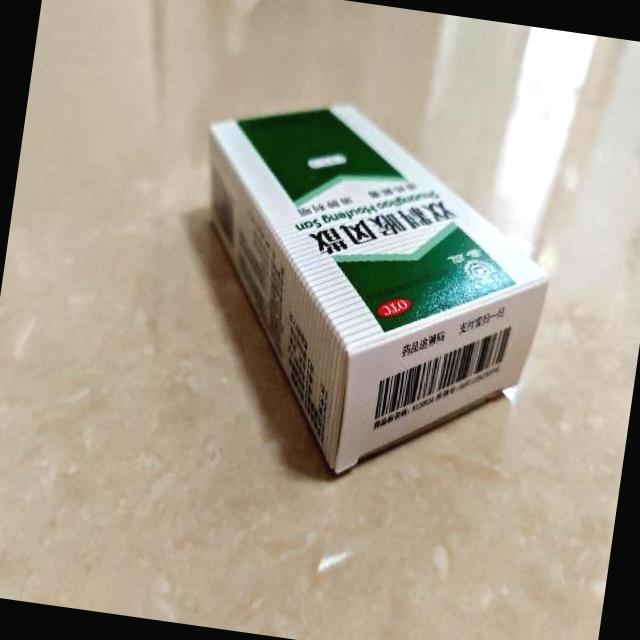box: (162, 85, 570, 502)
